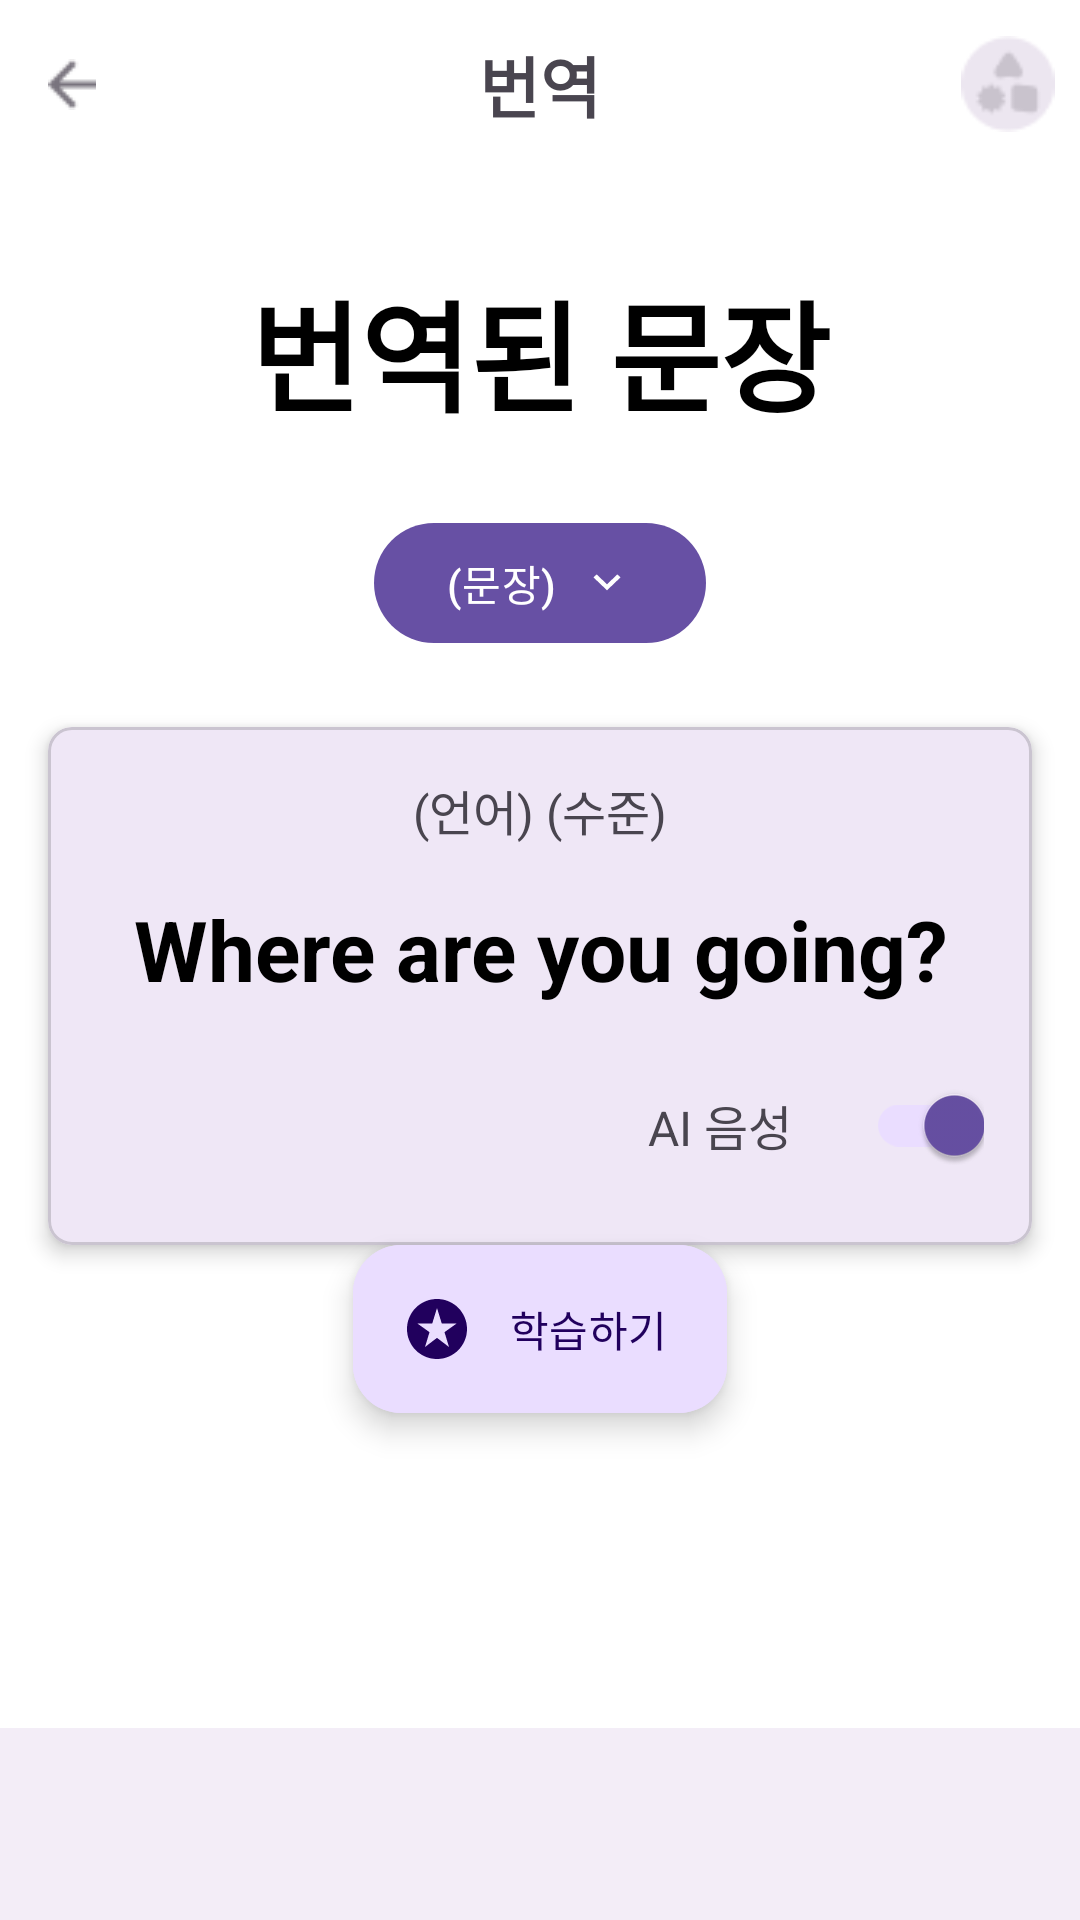

Where icons sit on this 1080 x 1920 app screen, as (x1, y1, x2, y2):
뒤로가기: (48, 61, 96, 108)
